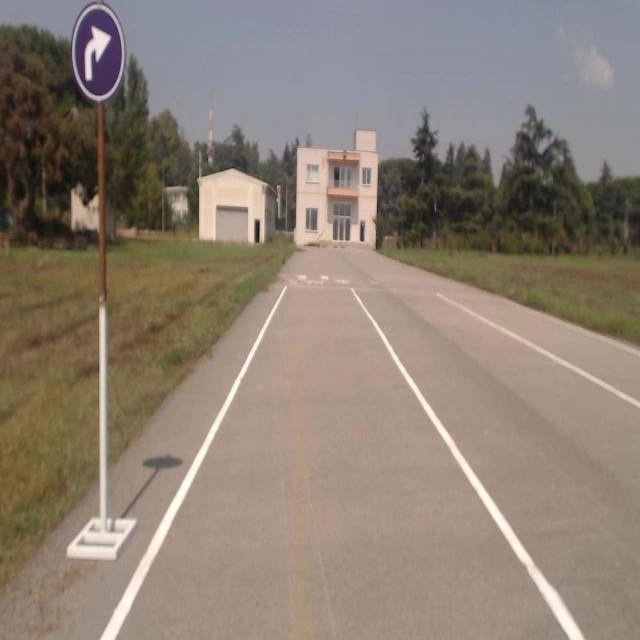sag: (72, 4, 125, 102)
